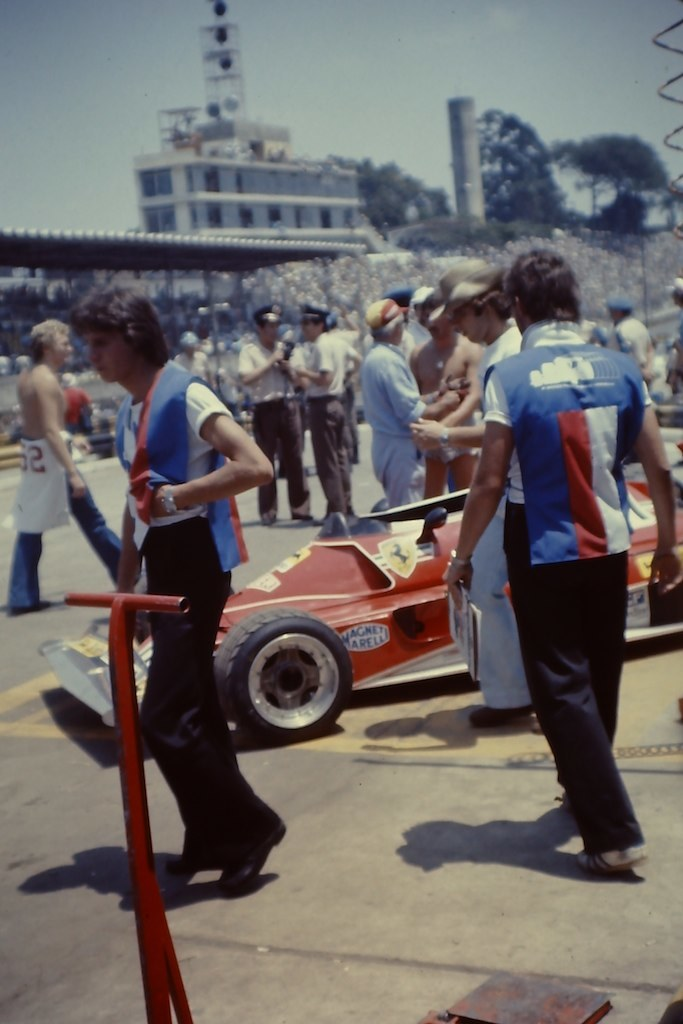Car: (32, 483, 682, 739)
